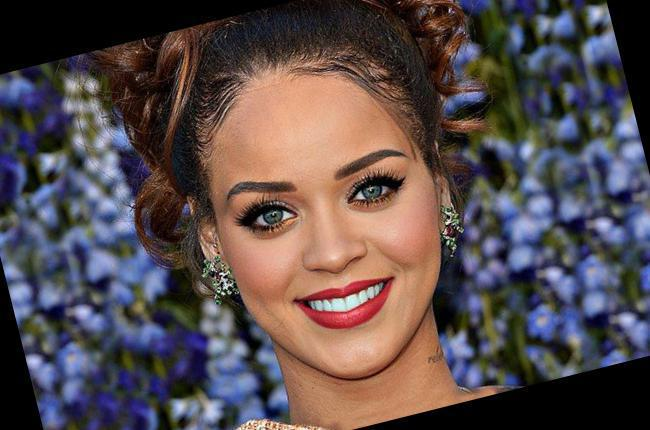Sober: (209, 105, 433, 362)
